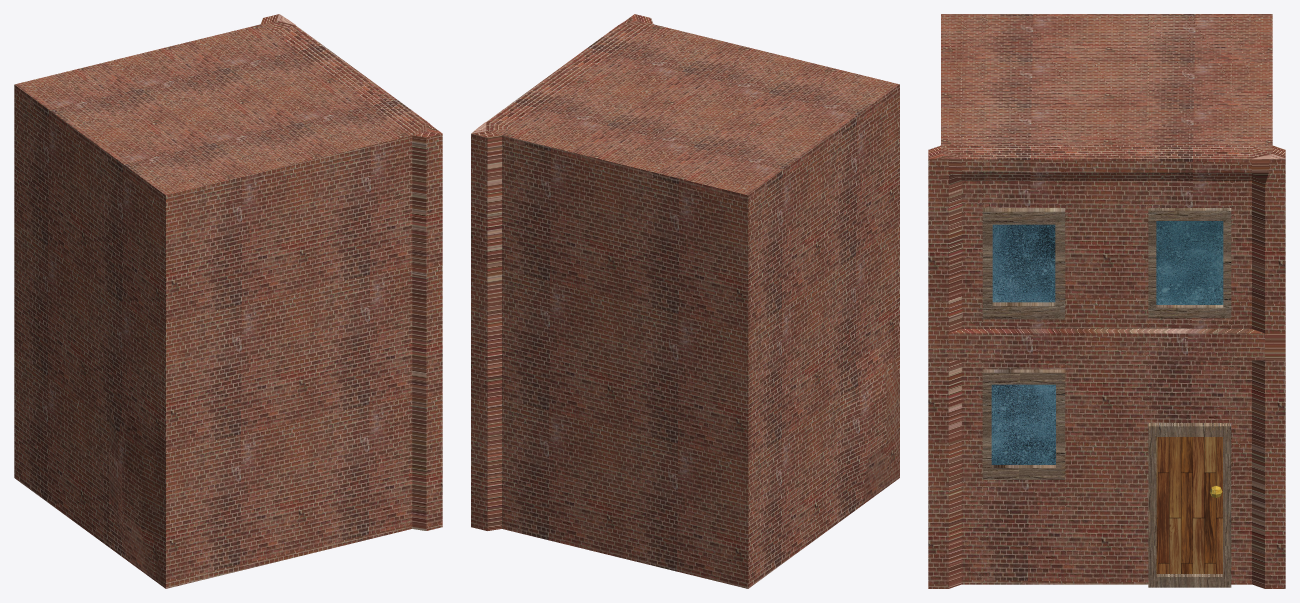
Rendered from house.fbx.
3 renders of one model, left to right at view 1: azimuth 30°, elevation 25°; view 2: azimuth 150°, elevation 25°; view 3: azimuth 270°, elevation 25°, orthographic. The views are drawn at different scales.
Visible parts, largest first — view 1: Cube; view 2: Cube; view 3: Cube, Cube.001, Cube.002.
Boxes of the visible parts, box(x1,y1,x2,y2) form: Cube: box(14, 14, 442, 588); Cube: box(471, 14, 899, 588); Cube: box(928, 14, 1285, 588); Cube.001: box(982, 208, 1231, 479); Cube.002: box(1148, 423, 1231, 587).
Bounding box in the file's own units: 212 × 286 × 216.
